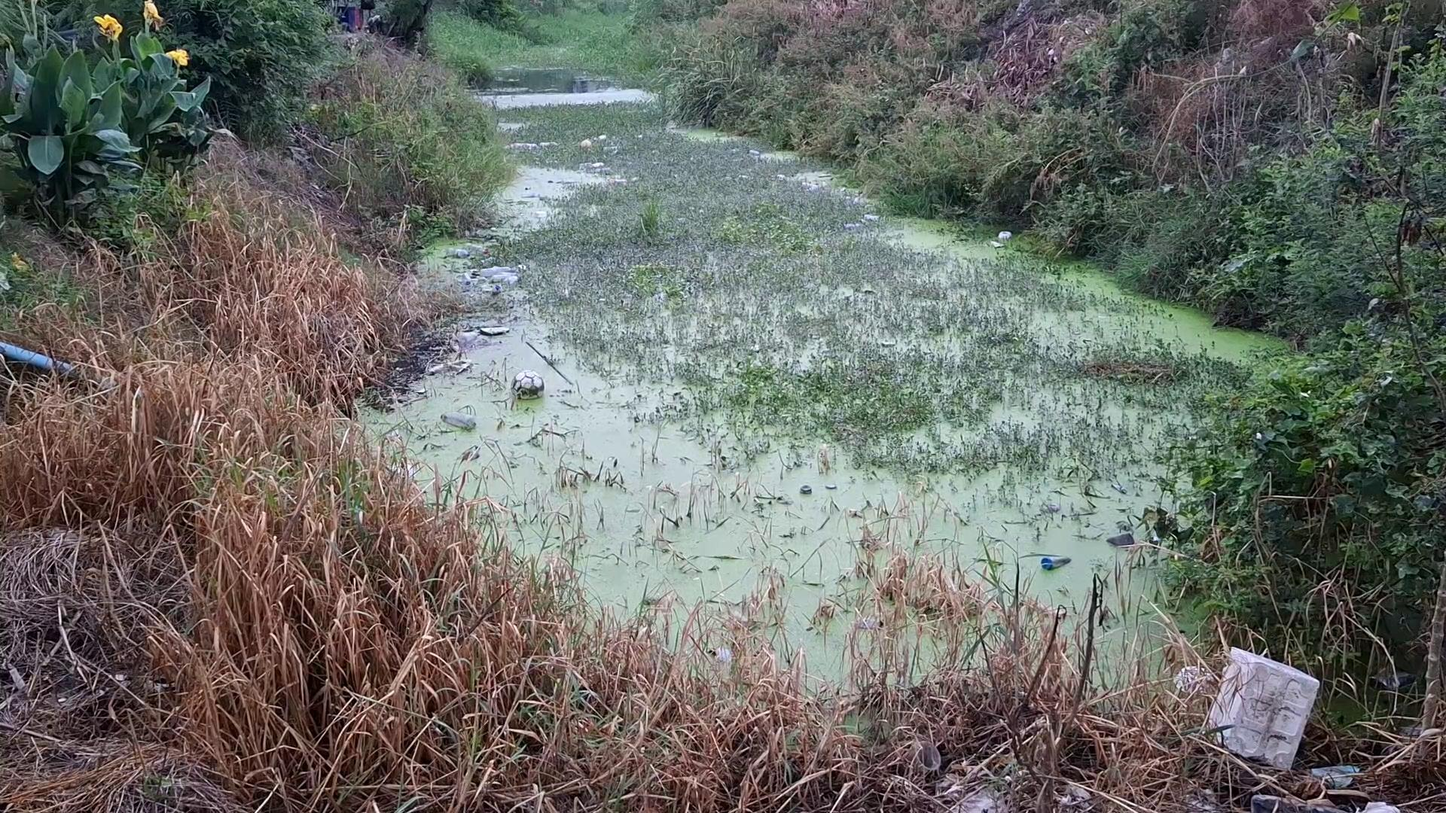ignore: (818, 298, 1239, 460), (566, 242, 937, 418), (505, 94, 836, 251)
trash: (459, 269, 527, 301), (844, 610, 905, 642), (444, 238, 497, 264), (469, 320, 515, 348), (506, 369, 548, 399), (438, 406, 479, 436), (1028, 550, 1075, 573), (1102, 528, 1141, 555), (791, 481, 840, 499), (982, 226, 1018, 250)
